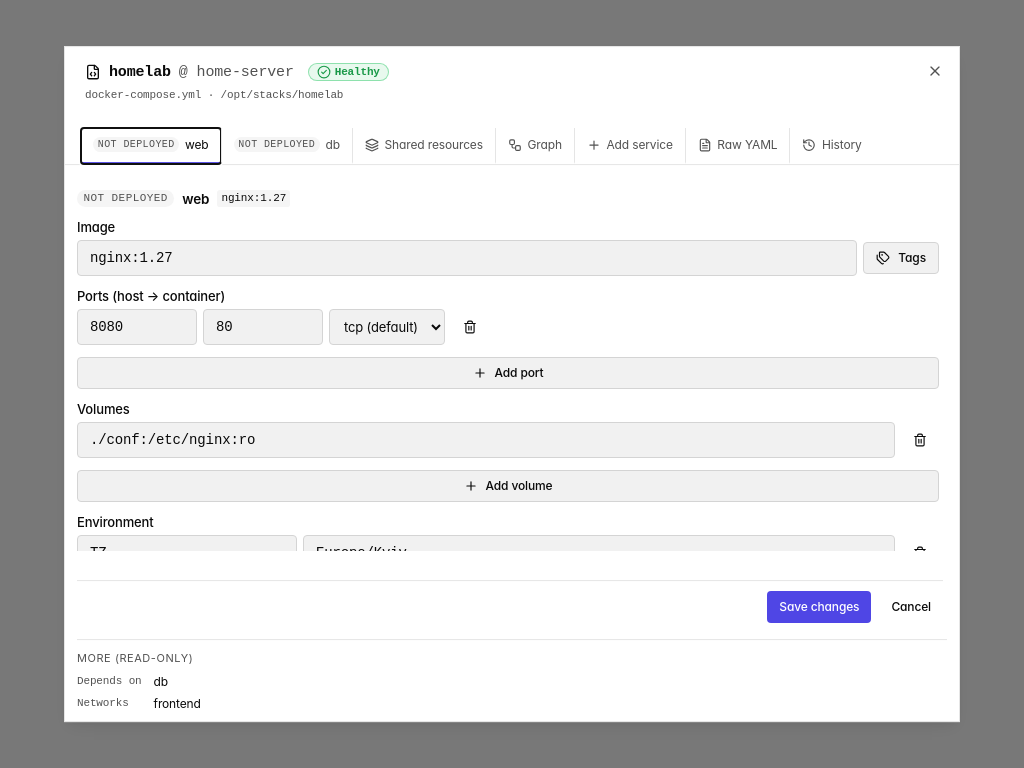
Test case: ComposeProjectModal — editing › warns about a host-port collision with another service
Type "9090" into the field named "Host port 1".
click(137, 327); type("9090")  # box x1=77 y1=309 x2=197 y2=345
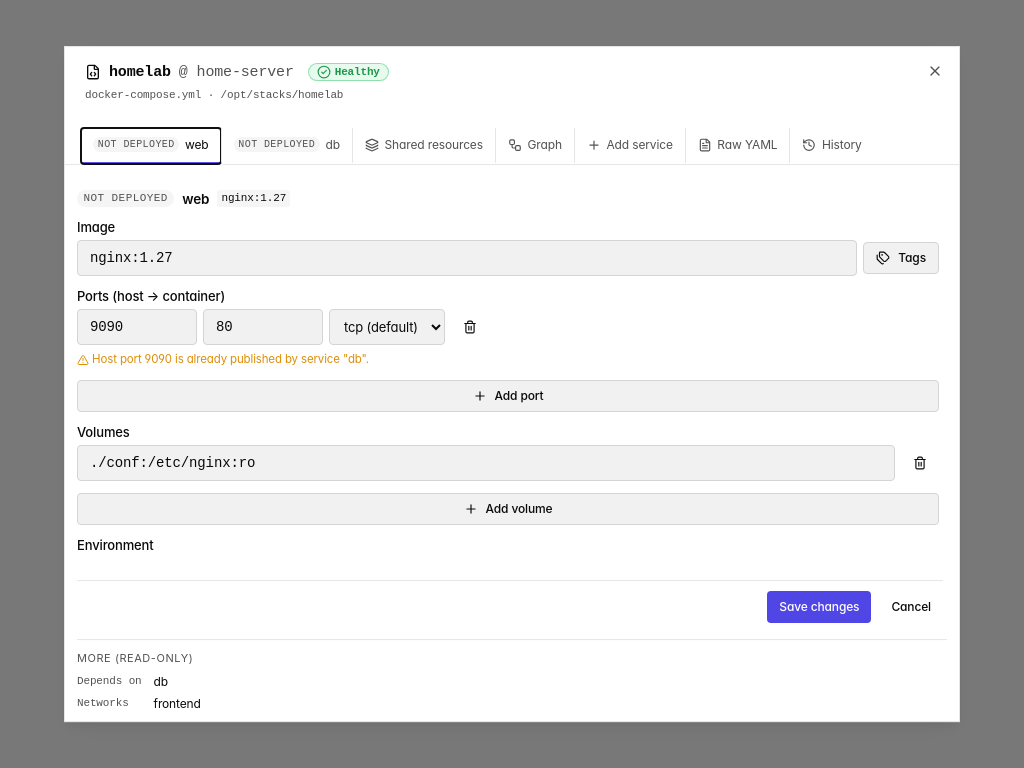
Result: the message reads "Host port 9090 is already published by service \"db\"." at x1=92 y1=352 x2=369 y2=366
